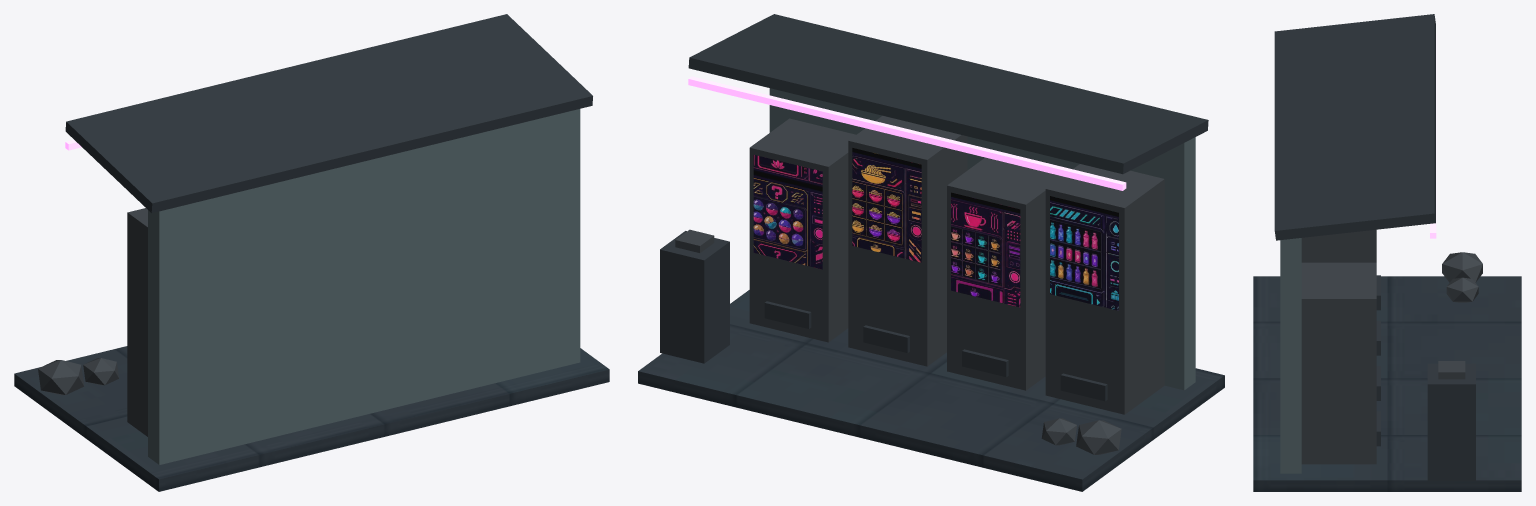
The model's file is synthwave-vending-b.glb.
3 views of the same model, side by side, from view 1: azimuth 30°, elevation 25°; view 2: azimuth 150°, elevation 25°; view 3: azimuth 270°, elevation 25° (orthographic). The views are drawn at different scales.
Visible parts, largest first — view 1: BackWall, Vnd_Frame, Pad, Vnd_Door; view 2: Vnd_Door, Vnd_Frame, Pad, BackWall, Sign_Vnd3, Sign_Vnd1, Sign_Vnd2, Sign_Vnd0, RoofEdge; view 3: Vnd_Frame, Pad, Vnd_Door, BackWall, RoofEdge.
Boxes of the visible parts, x1=… form: BackWall: x1=148, y1=109, x2=580, y2=464; Vnd_Frame: x1=65, y1=14, x2=592, y2=213; Pad: x1=14, y1=346, x2=609, y2=491; Vnd_Door: x1=38, y1=208, x2=147, y2=436; Vnd_Door: x1=675, y1=115, x2=1164, y2=454; Vnd_Frame: x1=660, y1=14, x2=1208, y2=401; Pad: x1=638, y1=290, x2=1224, y2=491; BackWall: x1=769, y1=88, x2=1195, y2=390; Sign_Vnd3: x1=753, y1=155, x2=822, y2=269; Sign_Vnd1: x1=951, y1=192, x2=1020, y2=307; Sign_Vnd2: x1=852, y1=148, x2=921, y2=262; Sign_Vnd0: x1=1050, y1=196, x2=1118, y2=310; RoofEdge: x1=688, y1=76, x2=1126, y2=190; Vnd_Frame: x1=1274, y1=14, x2=1475, y2=481; Pad: x1=1253, y1=276, x2=1521, y2=491; Vnd_Door: x1=1301, y1=229, x2=1482, y2=464; BackWall: x1=1280, y1=238, x2=1301, y2=473; RoofEdge: x1=1430, y1=33, x2=1436, y2=238.
Size of the model in its own units: 0.9152 by 0.5679 by 0.5.
9 materials, 5 textured.
